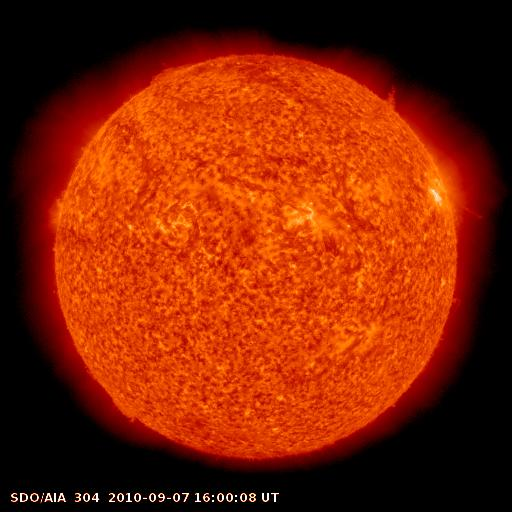prominence: (41, 180, 77, 239), (372, 70, 409, 116), (143, 60, 192, 89)
